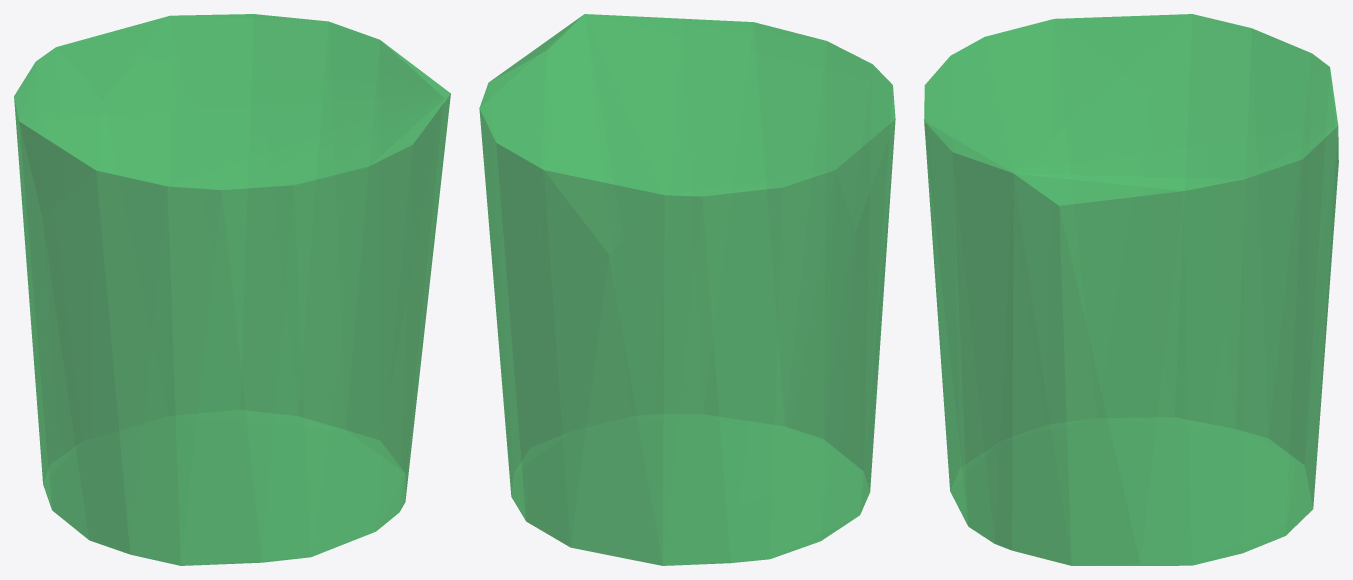
3 views of the same model, side by side, from view 1: azimuth 30°, elevation 25°; view 2: azimuth 150°, elevation 25°; view 3: azimuth 270°, elevation 25° (orthographic). The views are drawn at different scales.
Visible parts, largest first — view 1: Shape_IndexedFaceSet.001_Shape_IndexedFaceSet.16580; view 2: Shape_IndexedFaceSet.001_Shape_IndexedFaceSet.16580; view 3: Shape_IndexedFaceSet.001_Shape_IndexedFaceSet.16580.
Part boxes in pixels (left/top/right/bottom): Shape_IndexedFaceSet.001_Shape_IndexedFaceSet.16580: left=14, top=14, right=450, bottom=565; Shape_IndexedFaceSet.001_Shape_IndexedFaceSet.16580: left=479, top=14, right=895, bottom=565; Shape_IndexedFaceSet.001_Shape_IndexedFaceSet.16580: left=924, top=14, right=1338, bottom=565.
Bounding box in the file's own units: 0.1813 × 0.1935 × 0.1802.
